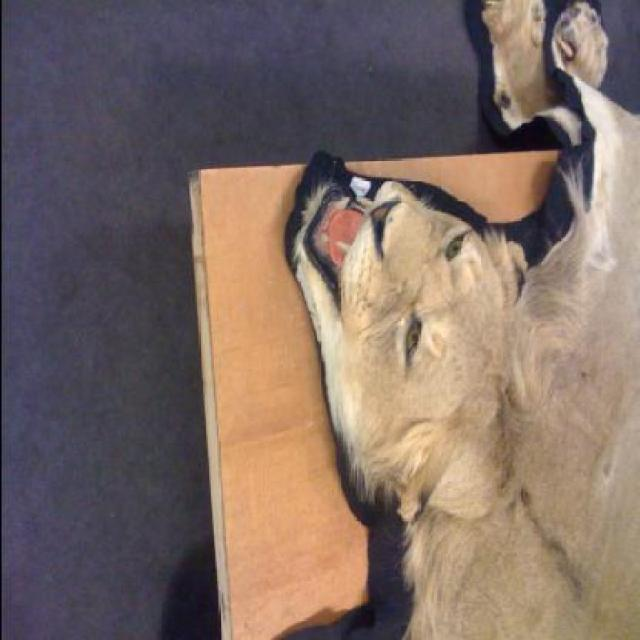Lion: (192, 7, 632, 638)
